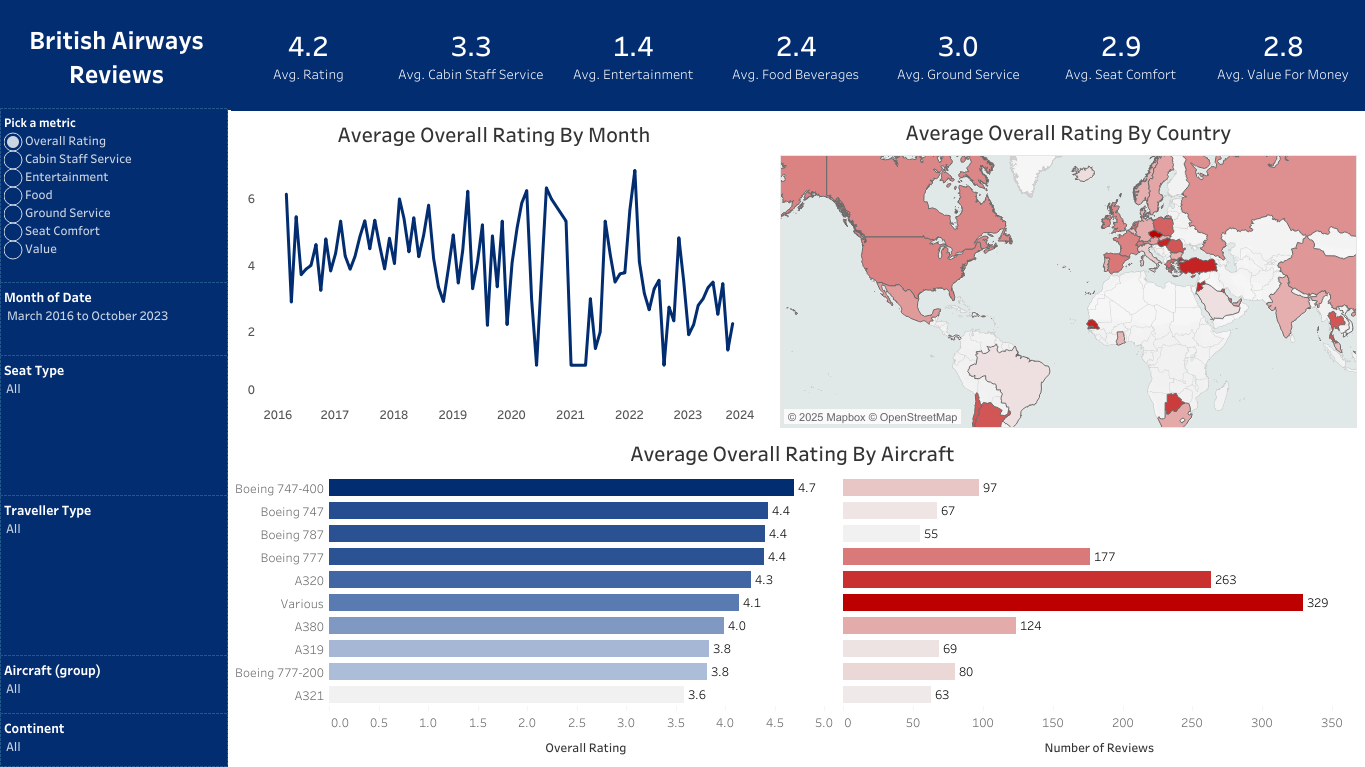

This screenshot's page, from the dashboard's own definition file:
{"tool":"tableau","page":{"name":"Dashboard 1 (2)","canvas":[1366,768],"ordinal":1},"visuals":[{"type":"text","box":[0,0,228,111]},{"type":"worksheet","title":"summary","mark":"Automatic","box":[227.7,0,1137.2,109.7]},{"type":"parameter","param":"[Parameters].[Parameter 1]","box":[0,107.5,227.7,177.7]},{"type":"blank","box":[227.7,109.7,3.4,658.3]},{"type":"worksheet","title":"Map","mark":"Automatic","box":[780,112,577,316]},{"type":"worksheet","title":"Month","mark":"Automatic","rows":["Calculation_467529988195790848"],"cols":["date"],"box":[232,114,524,314]},{"type":"filter","title":"Map","param":"[federated.1pcnwoo1g4pvph10ksfk00hadk1e].[tmn:date:qk]","box":[0,282,227.7,81.2]},{"type":"filter","title":"Map","param":"[federated.1pcnwoo1g4pvph10ksfk00hadk1e].[none:seat_type:nk]","box":[0,355.5,227.7,145.9]},{"type":"worksheet","title":"Aircraft","mark":"Automatic","cols":["Calculation_467529988195790848","ba_reviews.csv_693B5AD7C0CC43C9AB5E245D8FB67E5F"],"box":[228.8,433.4,1127,329.1]},{"type":"filter","title":"Map","param":"[federated.1pcnwoo1g4pvph10ksfk00hadk1e].[none:traveller_type:nk]","box":[0,494.8,227.7,167.9]},{"type":"filter","title":"Map","param":"[federated.1pcnwoo1g4pvph10ksfk00hadk1e].[Aircraft (group)]","box":[0,655,227.7,60.3]},{"type":"filter","title":"Map","param":"[federated.1pcnwoo1g4pvph10ksfk00hadk1e].[none:Continent:nk]","box":[0,713.1,227.7,53.8]}]}

Visuals, with their boxes in screenshot pixels (x1, y1, x2, y2), scaled from the page's 1366x768 canvas onto the 1365x767 screenshot:
text: box=[0, 0, 228, 111]
"summary" worksheet: box=[228, 0, 1364, 110]
parameter: box=[0, 107, 228, 285]
blank: box=[228, 110, 231, 766]
"Map" worksheet: box=[779, 112, 1356, 427]
"Month" worksheet: box=[232, 114, 755, 427]
"Map" filter: box=[0, 282, 228, 363]
"Map" filter: box=[0, 355, 228, 501]
"Aircraft" worksheet: box=[229, 433, 1355, 762]
"Map" filter: box=[0, 494, 228, 662]
"Map" filter: box=[0, 654, 228, 714]
"Map" filter: box=[0, 712, 228, 766]
